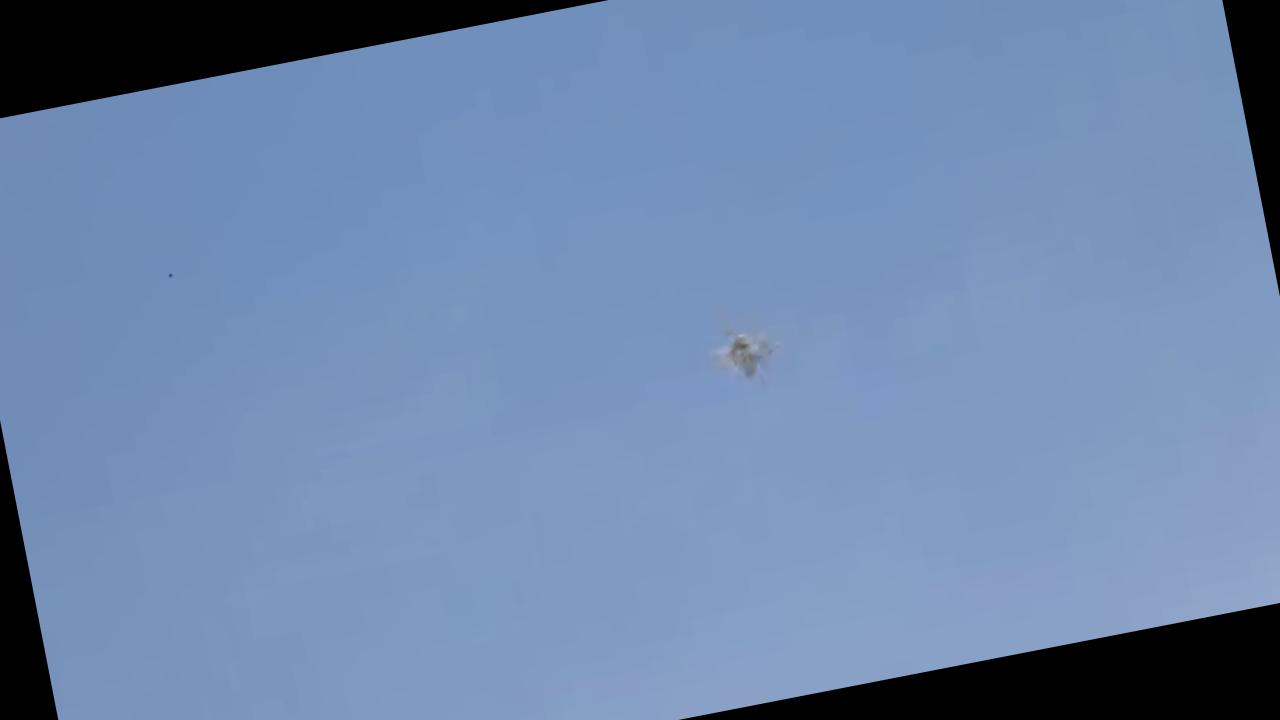drone: (675, 308, 795, 411)
